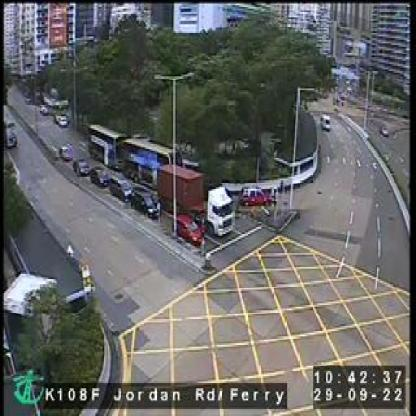Bus: (124, 132, 180, 187), (86, 125, 121, 170)
Car: (238, 180, 272, 210), (126, 188, 159, 218), (174, 213, 203, 246), (107, 174, 135, 200), (87, 165, 112, 189), (315, 111, 334, 135), (69, 156, 90, 173), (56, 140, 73, 160), (56, 116, 65, 132)
Truck: (155, 163, 235, 237)
